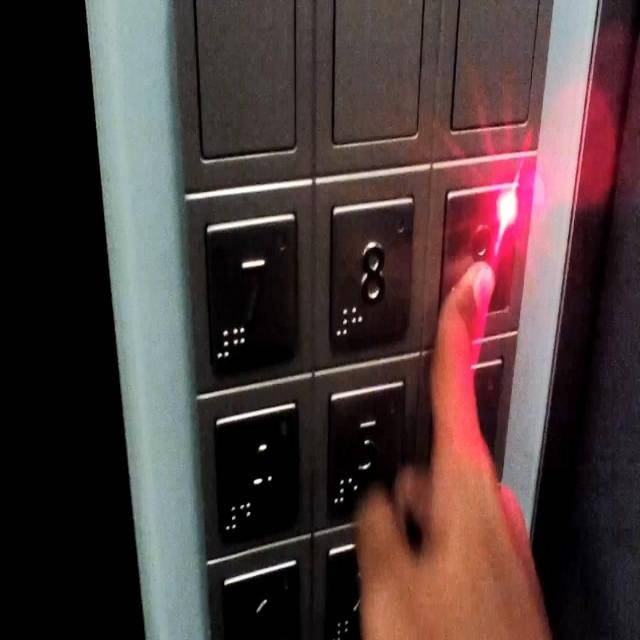4: (216, 400, 302, 546)
5: (326, 380, 405, 519)
7: (203, 212, 300, 378)
8: (330, 193, 414, 353)
blur: (438, 180, 520, 316)
